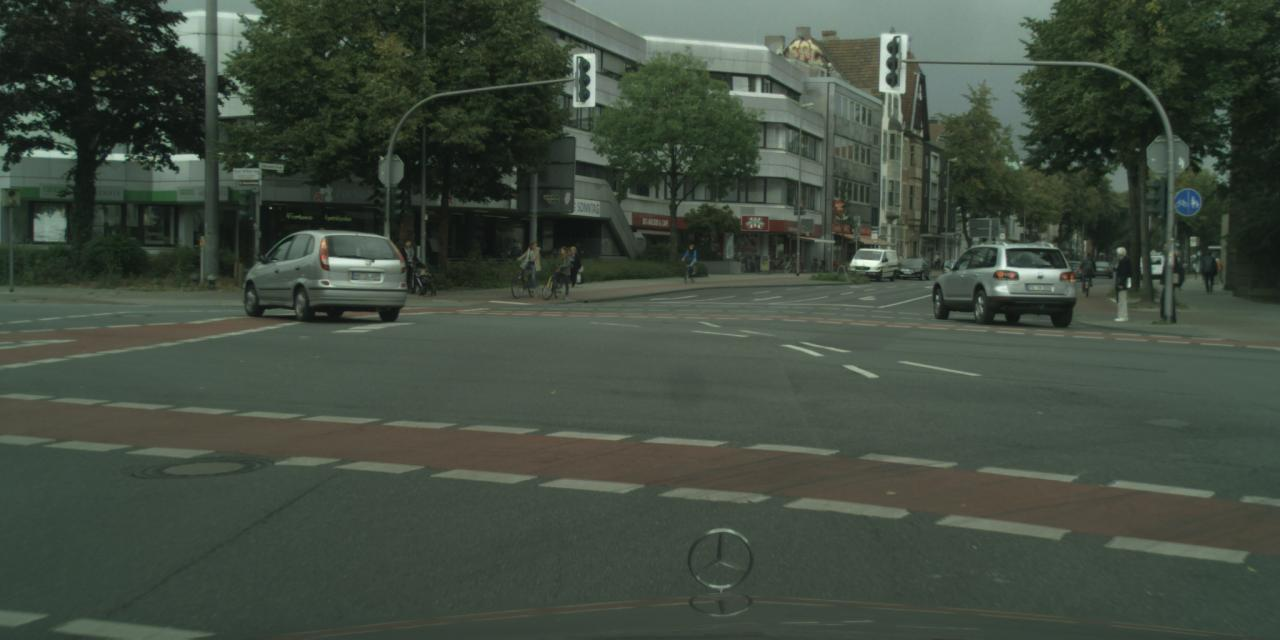ped: (1152, 242, 1184, 321), (1106, 246, 1136, 321), (396, 238, 418, 291), (551, 245, 570, 294), (520, 241, 539, 287), (1200, 250, 1218, 292), (563, 246, 579, 286), (506, 237, 521, 277), (1081, 251, 1095, 288), (684, 244, 697, 275), (1210, 258, 1220, 282), (897, 253, 905, 271), (933, 250, 940, 268)
